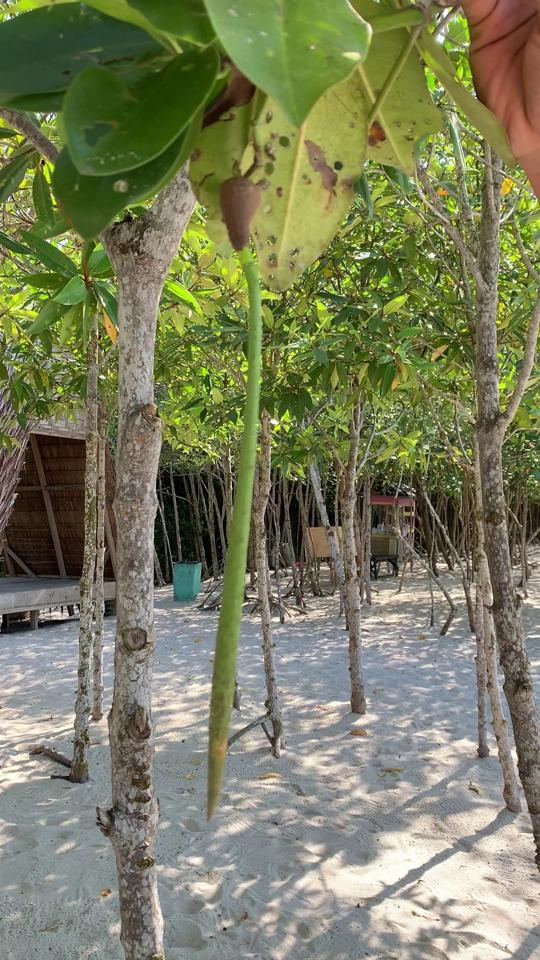setengah matang: (190, 153, 293, 827)
